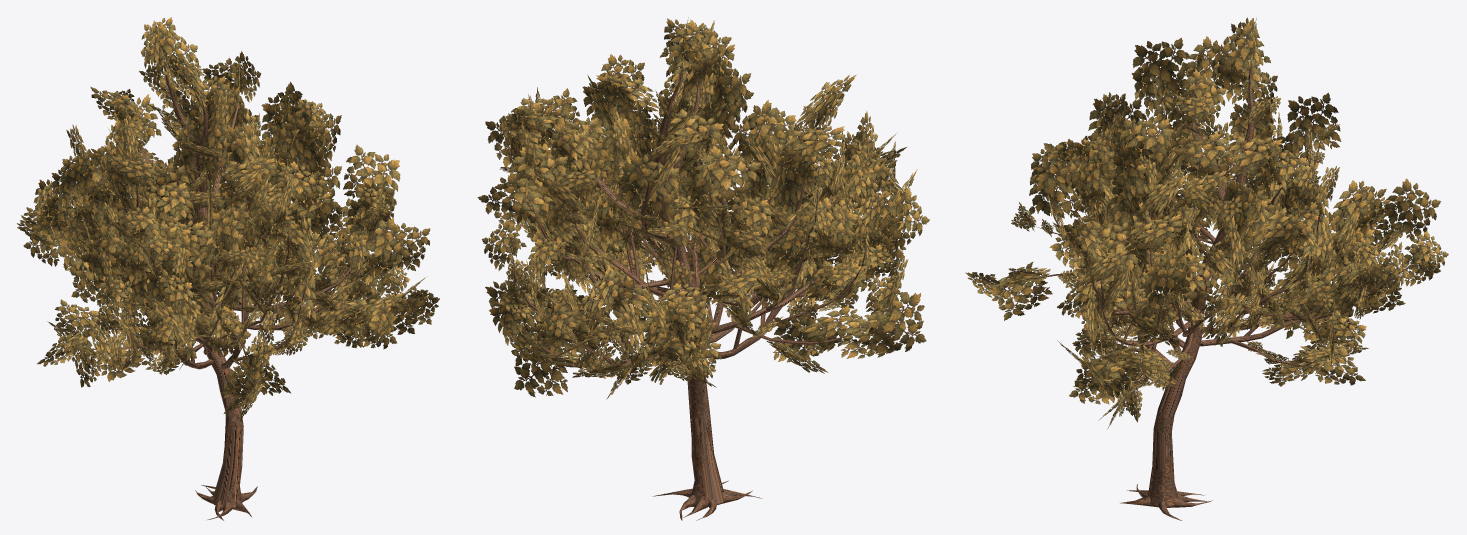
Rendered from tree3.glb.
3 views of the same model, side by side, from view 1: azimuth 30°, elevation 25°; view 2: azimuth 150°, elevation 25°; view 3: azimuth 270°, elevation 25° (orthographic). The views are drawn at different scales.
Parts seen in each view (by area): view 1: Leaves_LOD0.002 (×2), Branches_LOD0.002 (×2); view 2: Leaves_LOD0.002 (×2), Branches_LOD0.002 (×2); view 3: Leaves_LOD0.002 (×2), Branches_LOD0.002 (×2).
Boxes of the visible parts, left/top/right/bottom form: Leaves_LOD0.002 (×2): left=17, top=17, right=439, bottom=421; Branches_LOD0.002 (×2): left=59, top=65, right=405, bottom=520; Leaves_LOD0.002 (×2): left=477, top=17, right=929, bottom=399; Branches_LOD0.002 (×2): left=513, top=63, right=892, bottom=520; Leaves_LOD0.002 (×2): left=966, top=17, right=1448, bottom=429; Branches_LOD0.002 (×2): left=1007, top=63, right=1413, bottom=520.
Size of the model in its own units: 27.26 by 31.62 by 29.44.
Materials: 4 (4 with a texture image).
